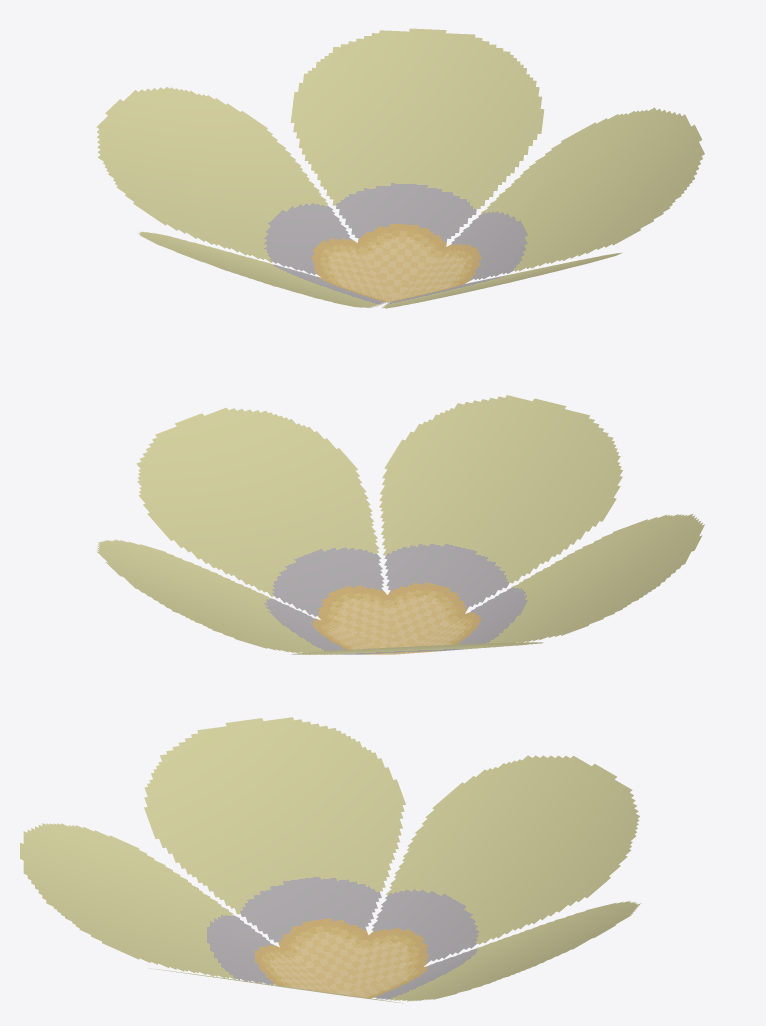
Rendered from 02ff_Yellow_Flower.glb.
3 renders of one model, top to bottom at view 1: azimuth 30°, elevation 25°; view 2: azimuth 150°, elevation 25°; view 3: azimuth 270°, elevation 25°, orthographic. The views are drawn at different scales.
Visible parts, largest first — view 1: part_0; view 2: part_0; view 3: part_0.
Part boxes in pixels (left/top/right/bottom): part_0: left=96, top=28, right=704, bottom=308; part_0: left=96, top=395, right=704, bottom=654; part_0: left=20, top=717, right=641, bottom=1003.
Size of the model in its own units: 0.0761 by 0.016 by 0.0724.
Materials: 1 (1 with a texture image).
